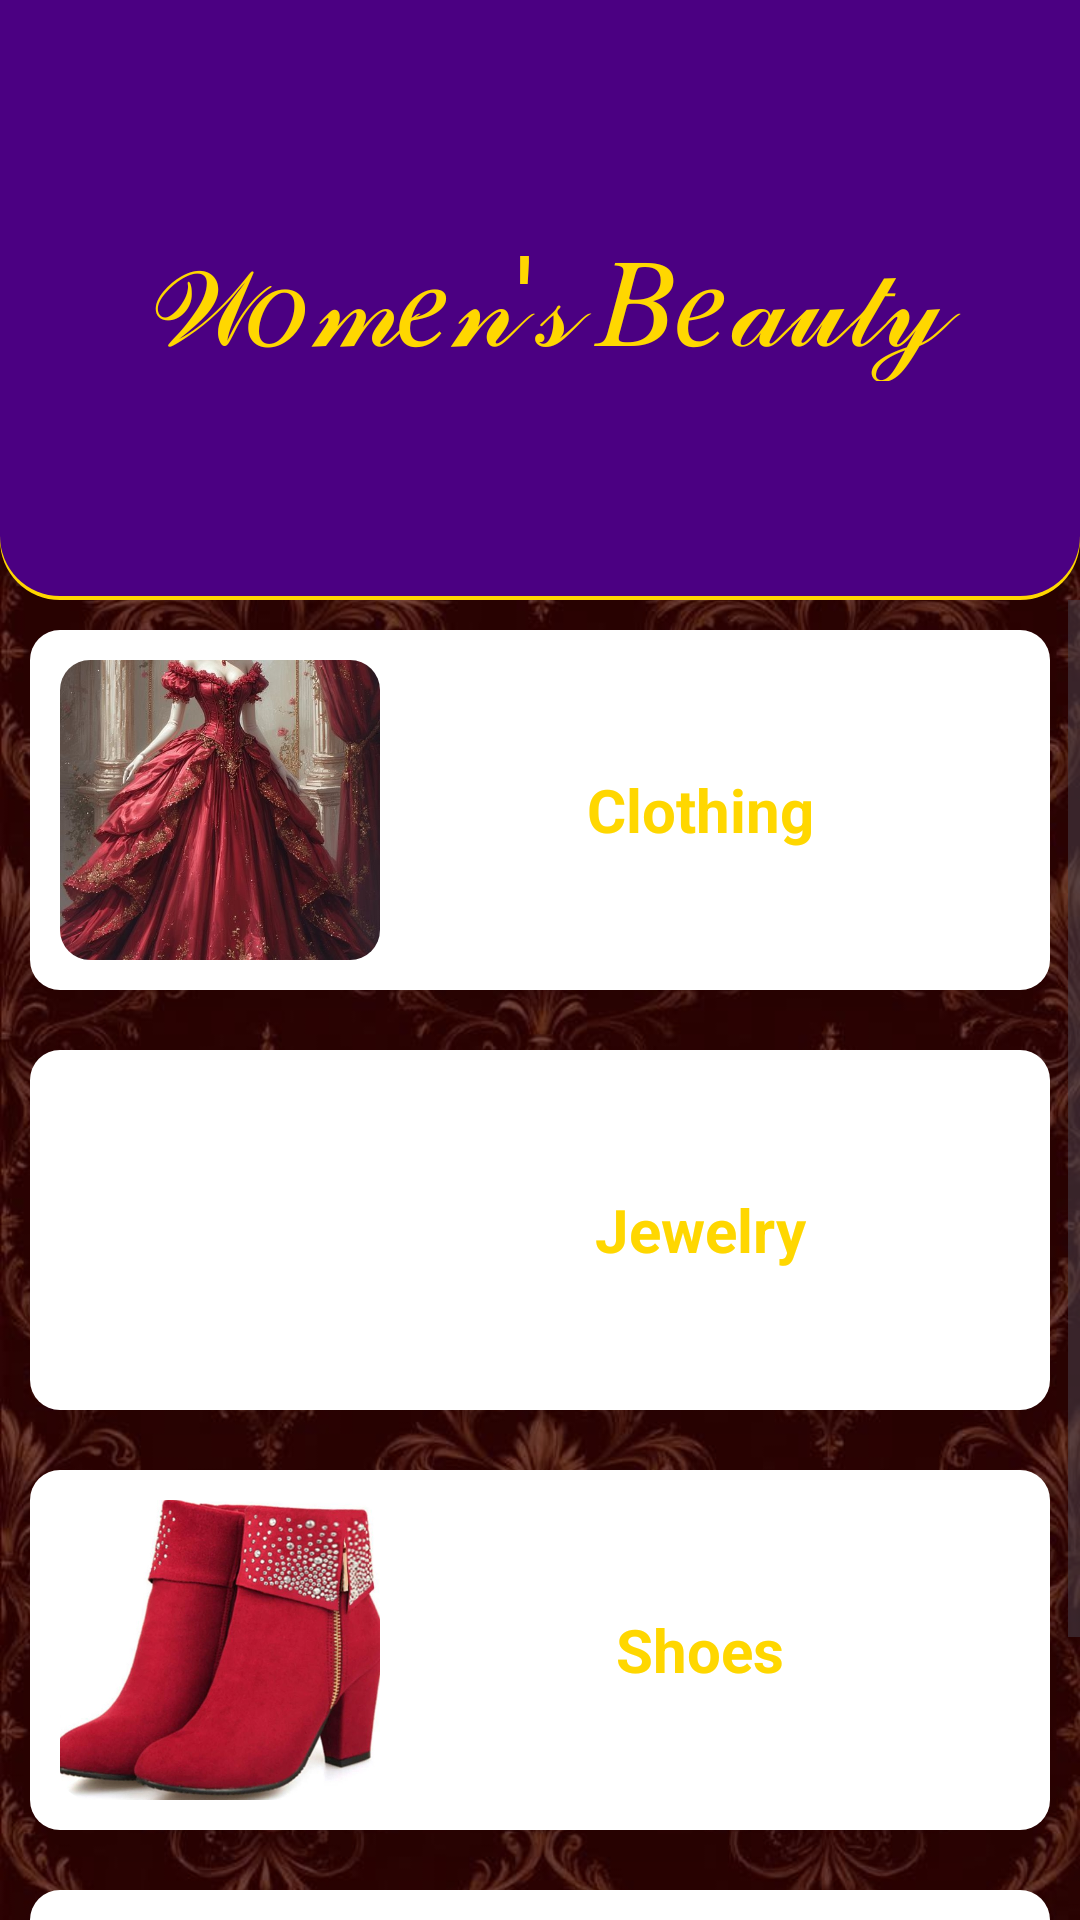

Point at icon controls on the screen. Image size 1080×1920, points as point (x, y).
section clothcover: point (220, 810)
